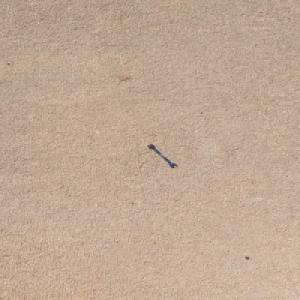Wrench: (146, 143, 177, 168)
